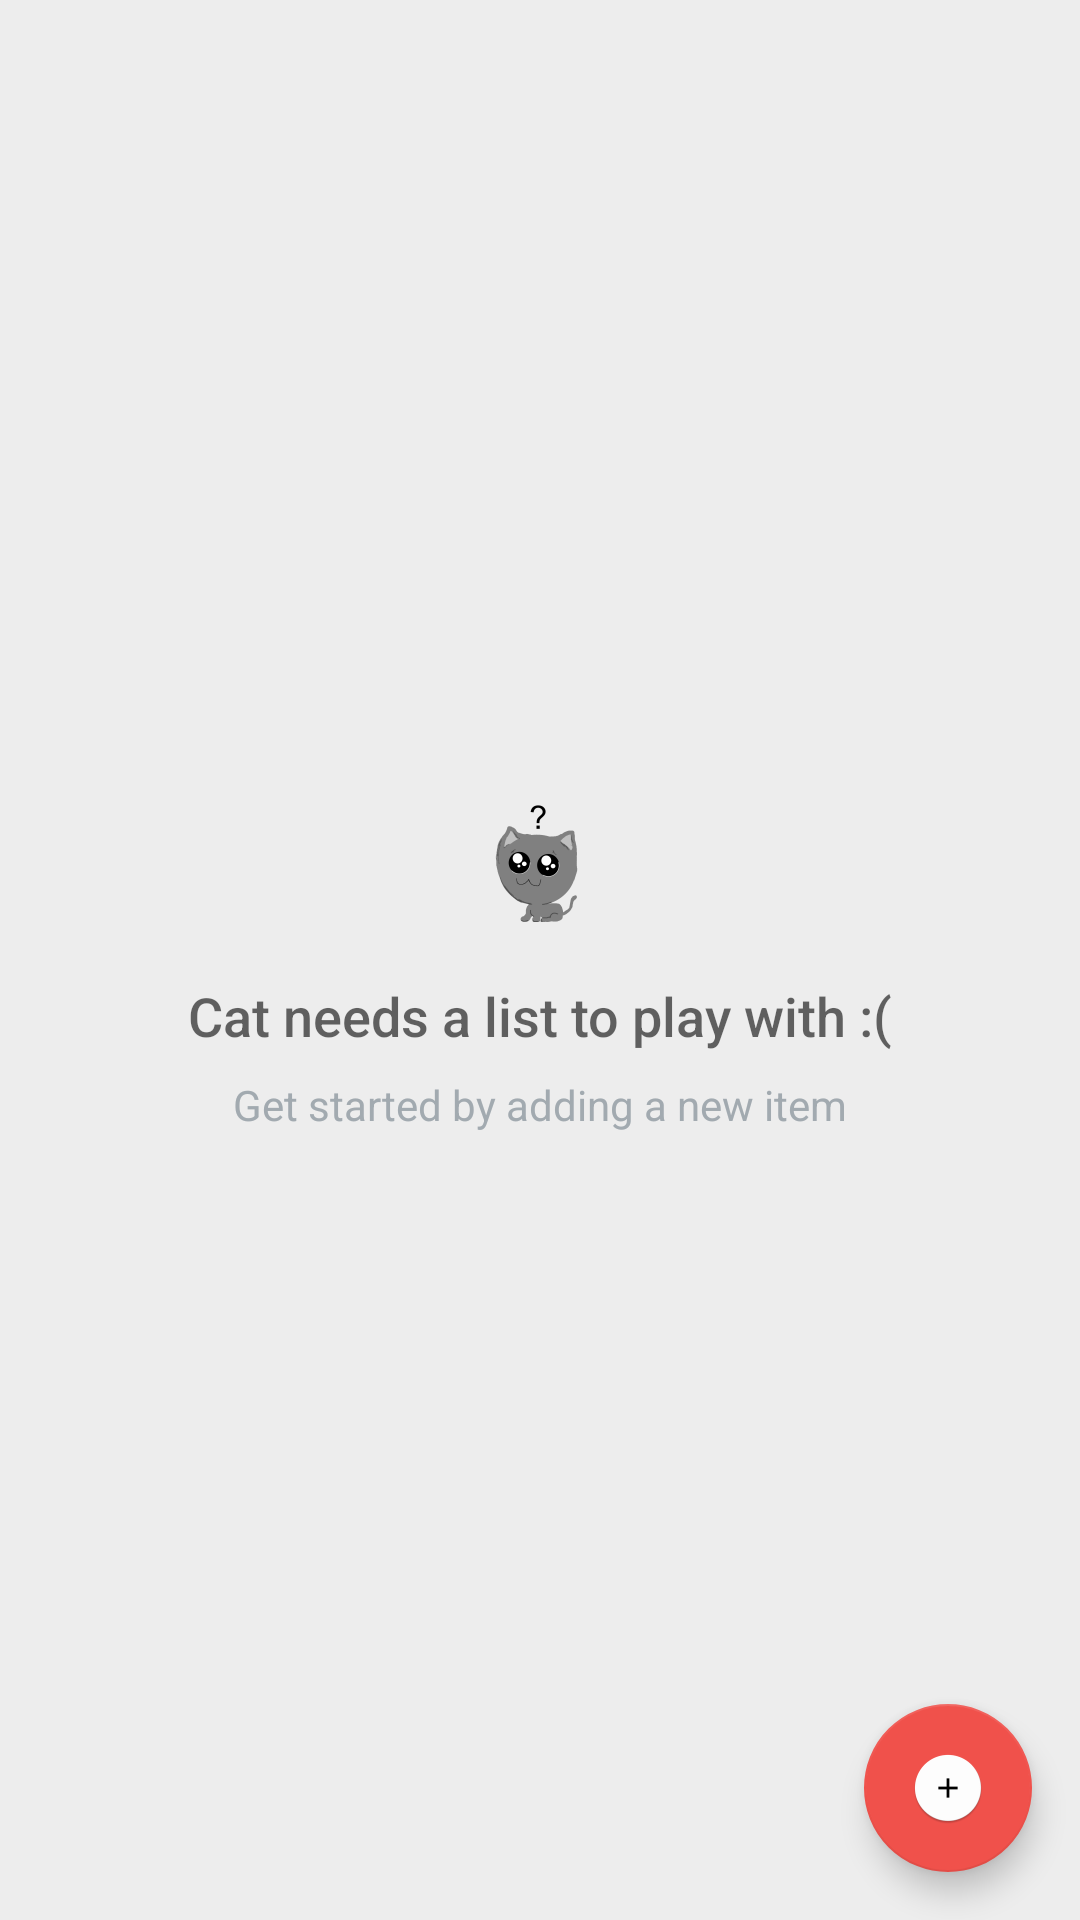

Icons on this 1080*1920 Android screen, each with the point to tap as (x=x, y=y):
add item: (x=948, y=1788)
empty: (x=536, y=863)
